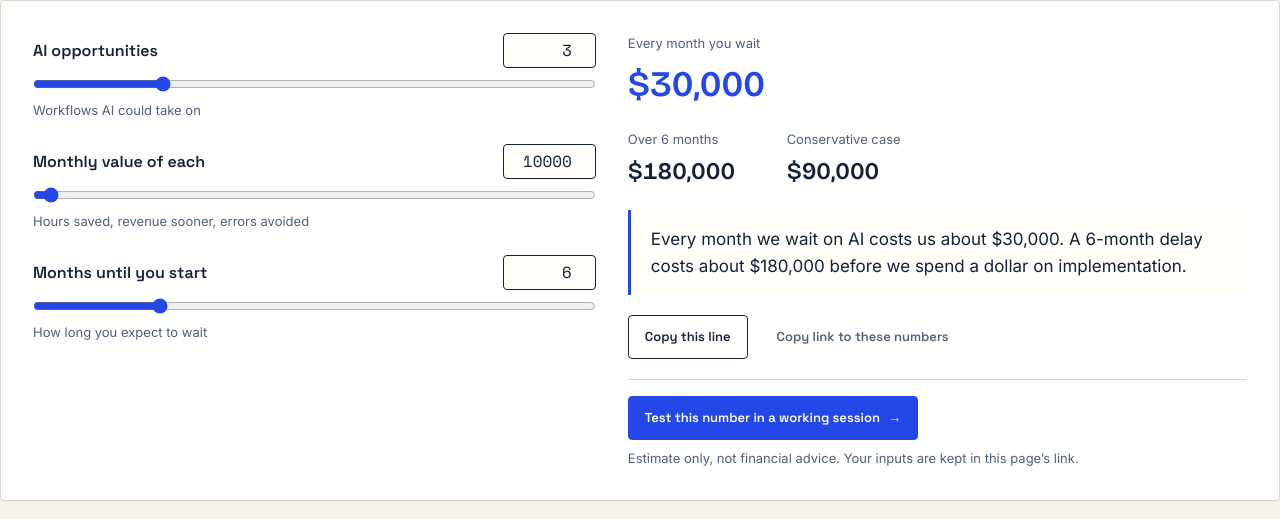
Test: CostOfDelayCalculator › applies a typed value only when the field loses focus, kept inside the range
Replace the text in the number field named "Months until you start, exact value" with "99" at (549, 272), box [503,255,596,290]
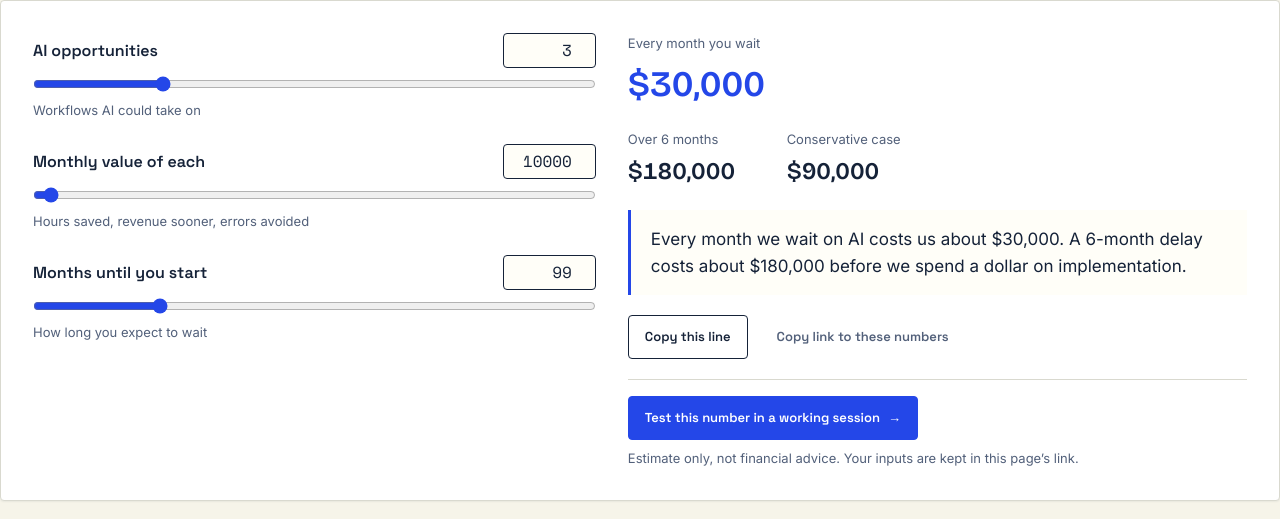
Leave the number field named "Months until you start, exact value", box [503,255,596,290]
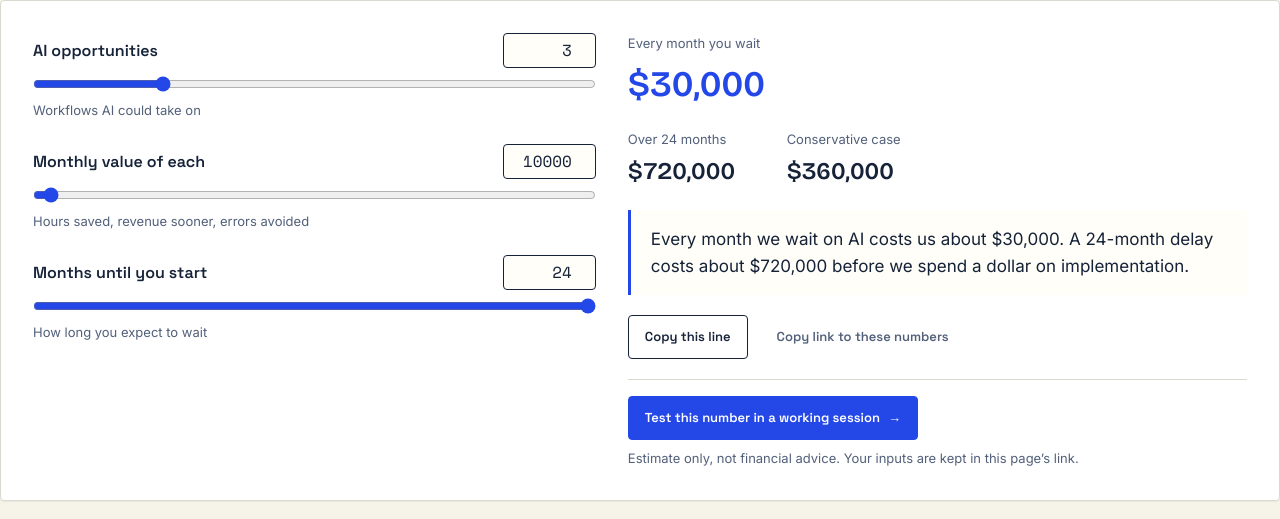
Expected: the text "$720,000" is shown, [628,157,735,185]
